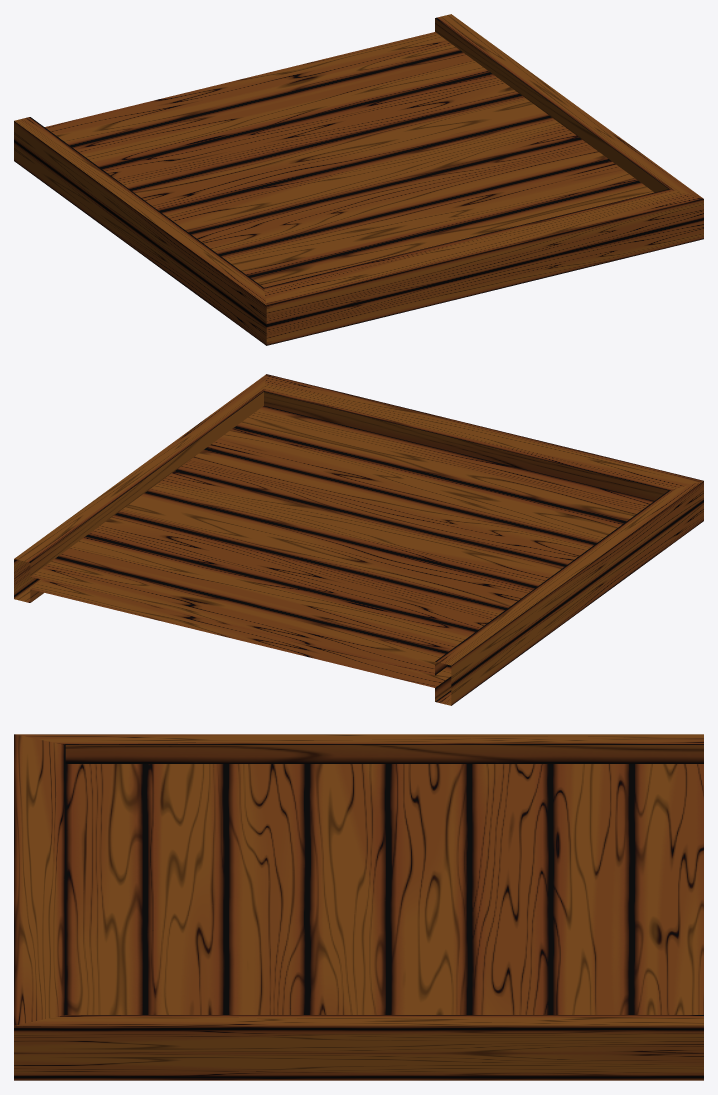
Rendered from MTile_07.fbx.
The picture shows the model from 3 angles, top to bottom: view 1: azimuth 30°, elevation 25°; view 2: azimuth 150°, elevation 25°; view 3: azimuth 270°, elevation 25°; orthographic projection. The views are drawn at different scales.
Parts seen in each view (by area): view 1: MTile_07; view 2: MTile_07; view 3: MTile_07.
Boxes of the visible parts, left/top/right/bottom form: MTile_07: left=14, top=14, right=703, bottom=345; MTile_07: left=14, top=374, right=703, bottom=705; MTile_07: left=14, top=734, right=703, bottom=1080.
Bounding box in the file's own units: 255 × 22.41 × 255.
